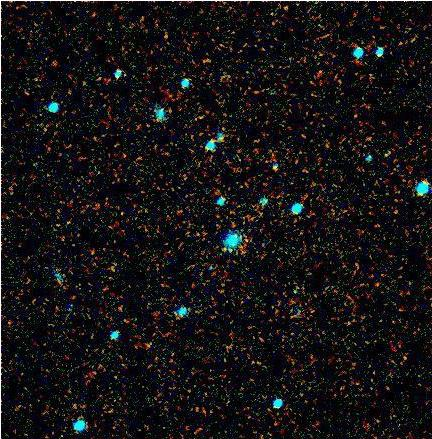star: (212, 234, 242, 264)
